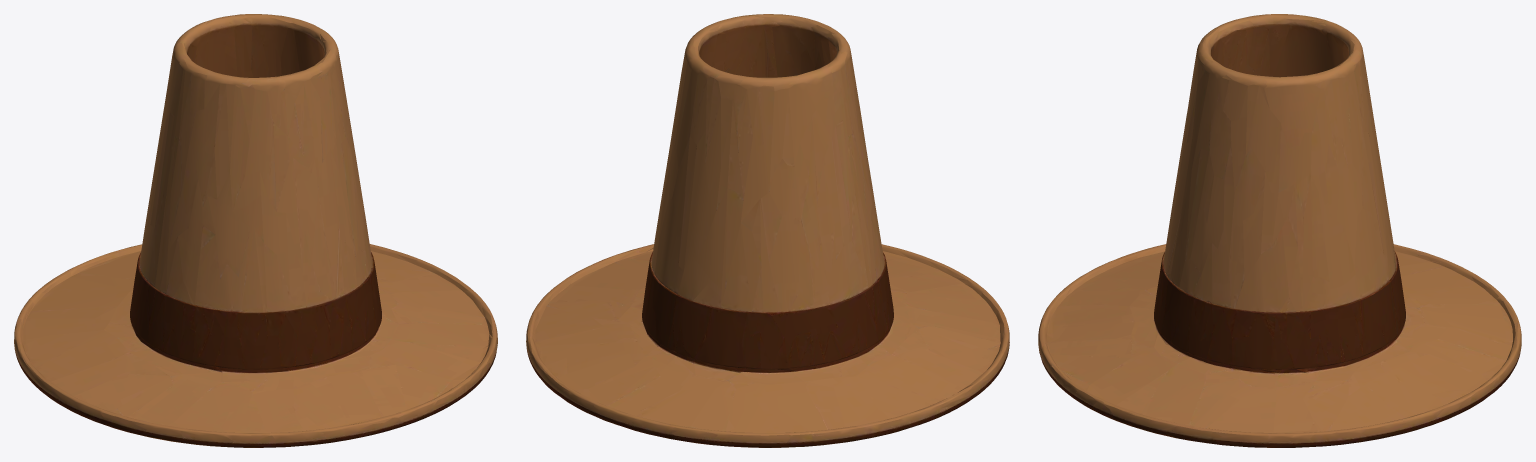
The model's file is hat_pilgrim.glb.
3 renders of one model, left to right at view 1: azimuth 30°, elevation 25°; view 2: azimuth 150°, elevation 25°; view 3: azimuth 270°, elevation 25°, orthographic.
Bounding box in the file's own units: 1.9 × 1.31 × 1.9.
1 material, 1 textured.
